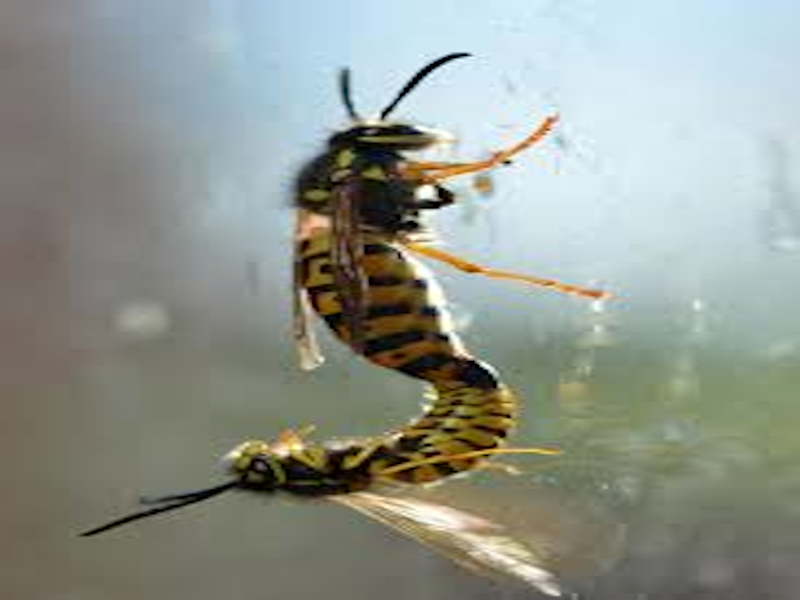chax: (266, 27, 621, 383), (64, 387, 621, 597)
